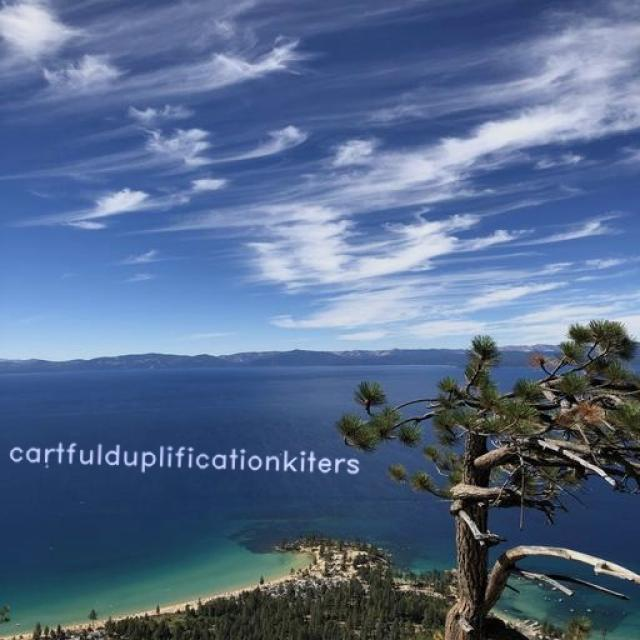watermark: (0, 439, 380, 477)
